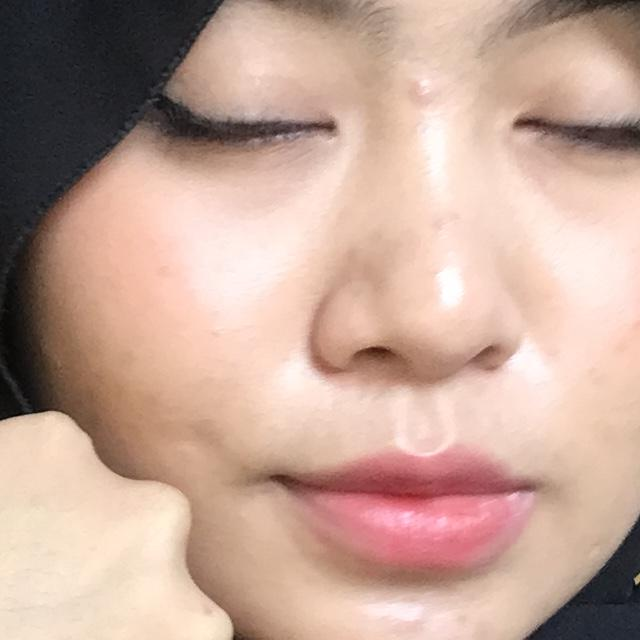telpon: (0, 206, 560, 640)
